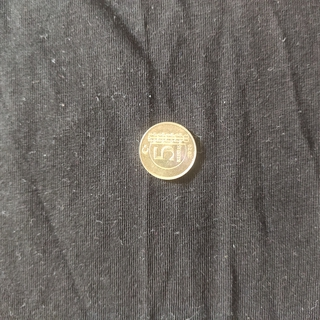5KURUS: (137, 120, 198, 181)
